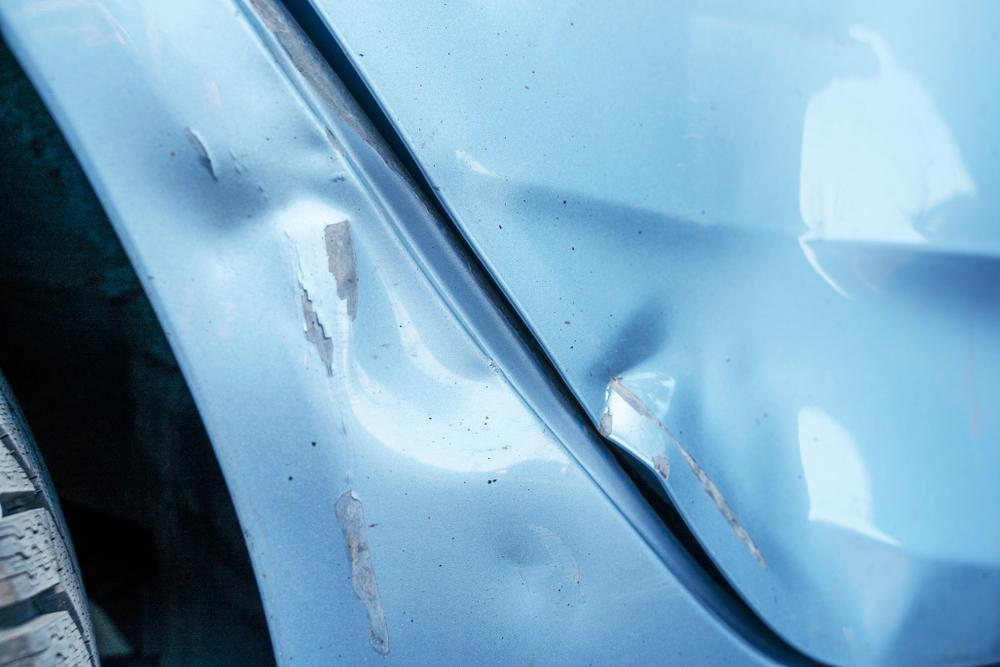dent: (521, 17, 1000, 663), (146, 120, 558, 478), (477, 526, 572, 618)
scratch: (333, 489, 394, 667)
